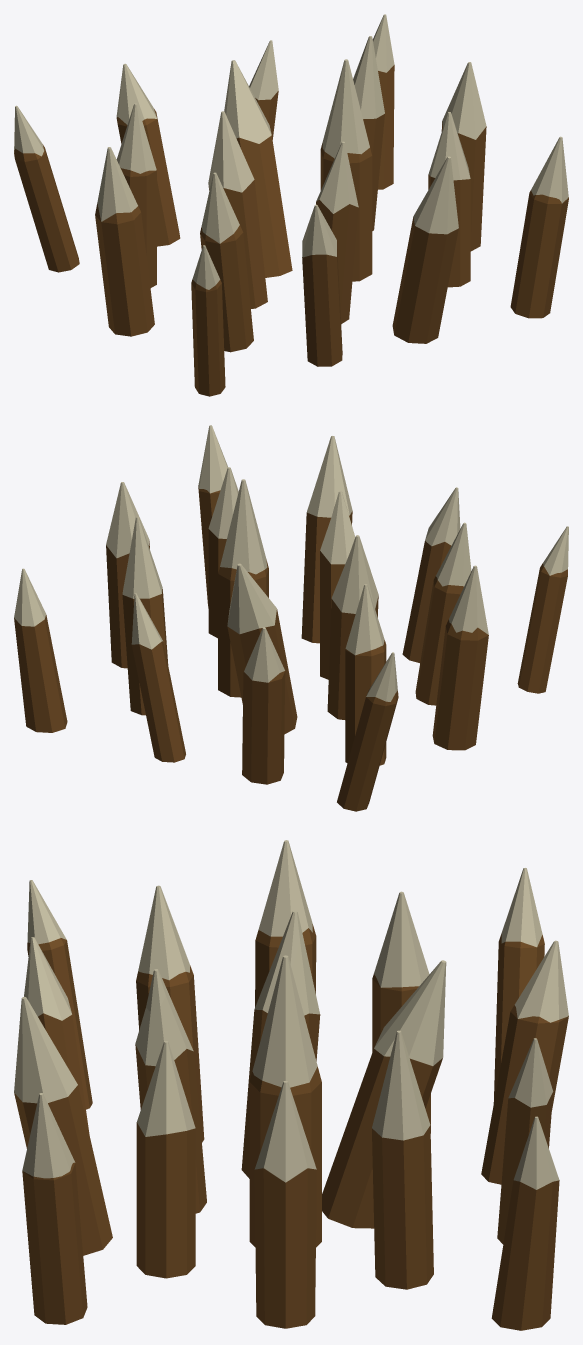
File: Trap2_Üst.fbx
3 renders of one model, top to bottom at view 1: azimuth 30°, elevation 25°; view 2: azimuth 150°, elevation 25°; view 3: azimuth 270°, elevation 25°, orthographic. The views are drawn at different scales.
Visible parts, largest first — view 1: Cylinder.030; view 2: Cylinder.030; view 3: Cylinder.030.
Part boxes in pixels (x1,y1,x2,y2): Cylinder.030: (14, 14, 568, 396); Cylinder.030: (14, 425, 568, 811); Cylinder.030: (14, 840, 568, 1330).
Bounding box in the file's own units: 0.861 × 0.4713 × 0.7922.
